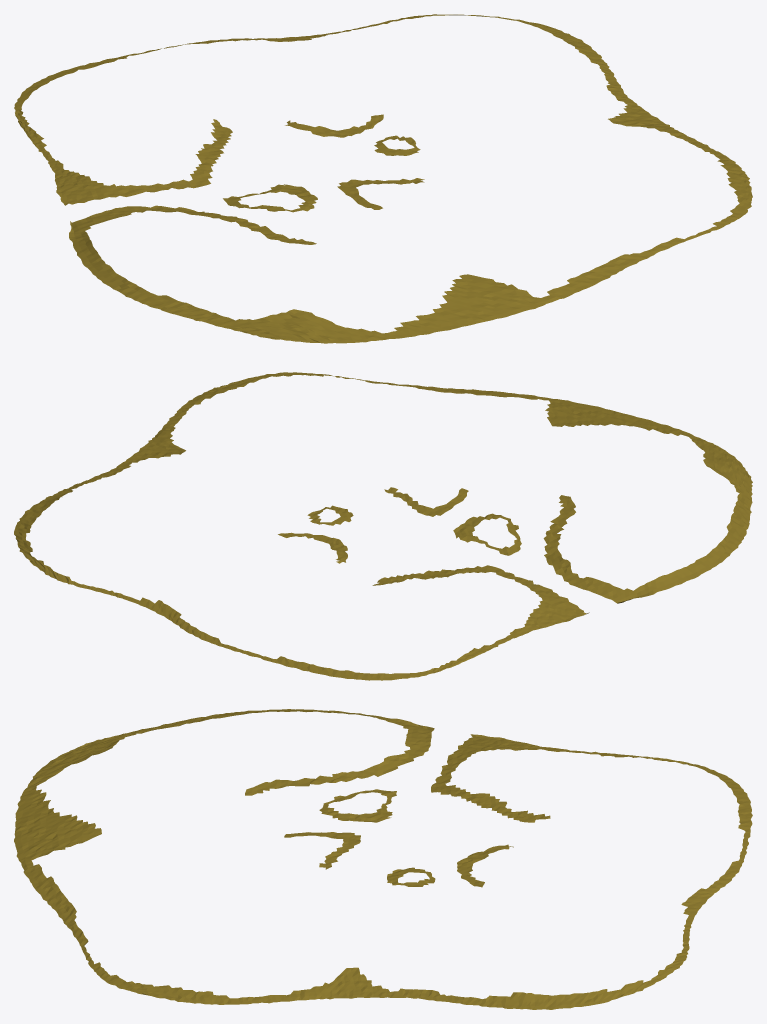
File: ZEME_001_SMILTIS.FBX
3 renders of one model, top to bottom at view 1: azimuth 30°, elevation 25°; view 2: azimuth 150°, elevation 25°; view 3: azimuth 270°, elevation 25°, orthographic. The views are drawn at different scales.
Parts seen in each view (by area): view 1: ZEME_001_SMILTIS; view 2: ZEME_001_SMILTIS; view 3: ZEME_001_SMILTIS.
Boxes of the visible parts, box(x1,y1,x2,y2) form: ZEME_001_SMILTIS: box(14, 14, 752, 343); ZEME_001_SMILTIS: box(14, 372, 752, 680); ZEME_001_SMILTIS: box(14, 709, 752, 1009).
Bounding box in the file's own units: 217472 × 4825 × 225709.
